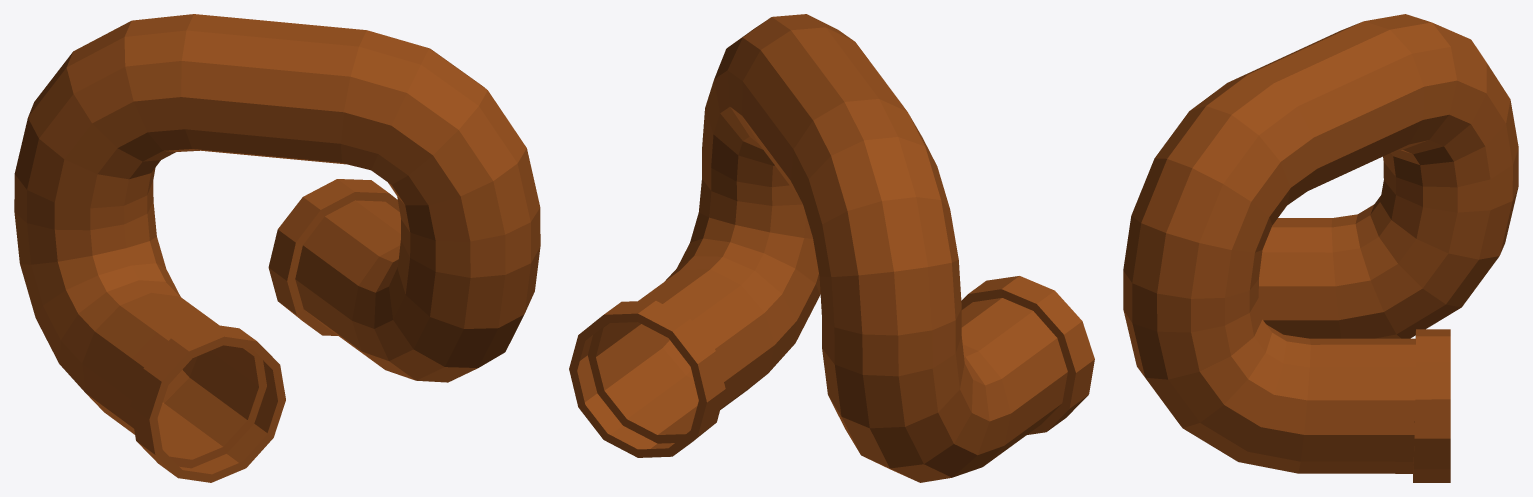
File: looping_pipe.fbx
3 renders of one model, left to right at view 1: azimuth 30°, elevation 25°; view 2: azimuth 150°, elevation 25°; view 3: azimuth 270°, elevation 25°, orthographic. The views are drawn at different scales.
Parts seen in each view (by area): view 1: Plane; view 2: Plane; view 3: Plane.
Boxes of the visible parts, x1,y1,x2,y2 form: Plane: (14, 14, 540, 482); Plane: (569, 14, 1094, 482); Plane: (1123, 14, 1518, 482).
Bounding box in the file's own units: 3380 × 3098 × 3054.
